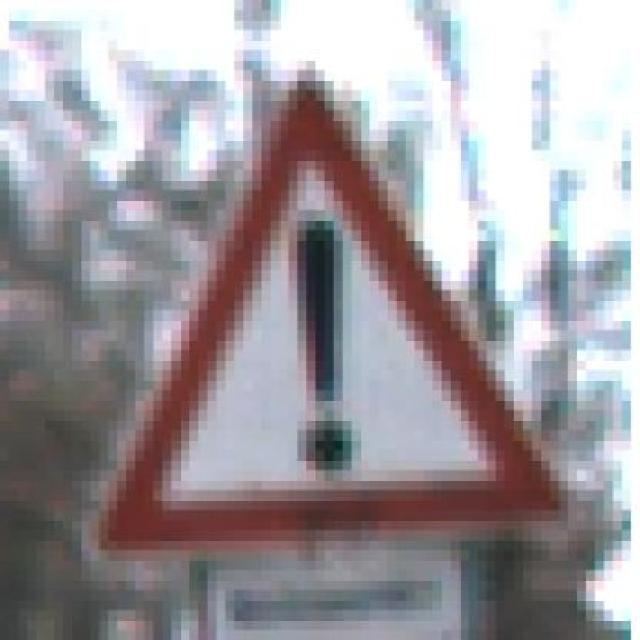Attention Please-: (80, 50, 578, 570)
